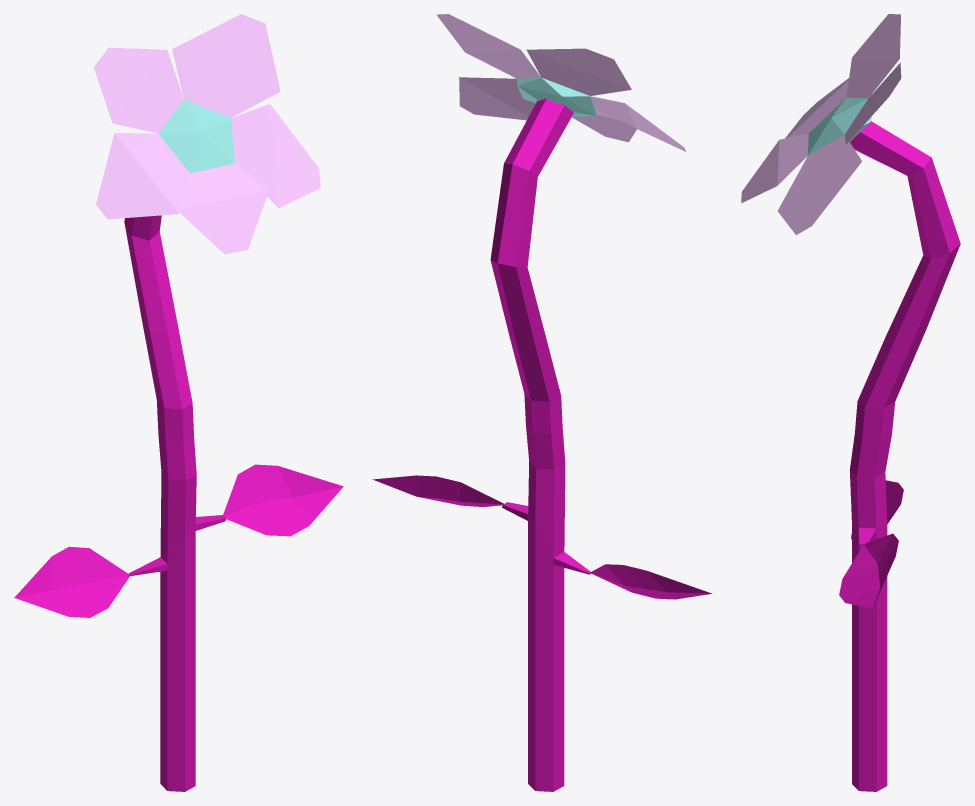
The model's file is Flower.fbx.
3 renders of one model, left to right at view 1: azimuth 30°, elevation 25°; view 2: azimuth 150°, elevation 25°; view 3: azimuth 270°, elevation 25°, orthographic. The views are drawn at different scales.
Visible parts, largest first — view 1: flower; view 2: flower; view 3: flower.
Part boxes in pixels (x1=…): flower: x1=14, y1=14, x2=343, y2=791; flower: x1=372, y1=14, x2=711, y2=791; flower: x1=741, y1=14, x2=960, y2=791.
Size of the model in its own units: 35.38 by 75.85 by 20.25.
